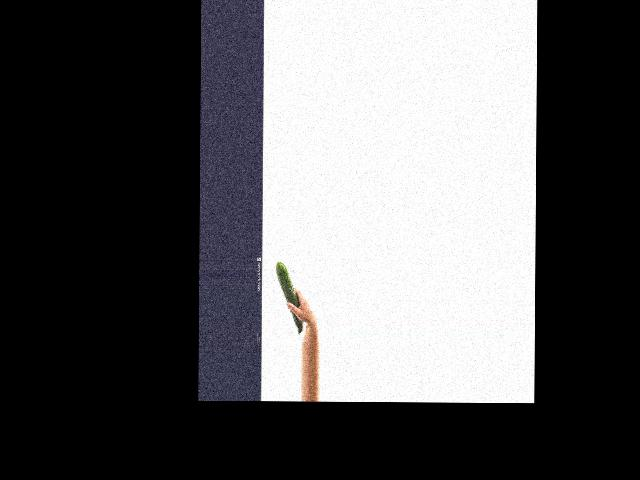cucumber: (275, 261, 304, 335)
